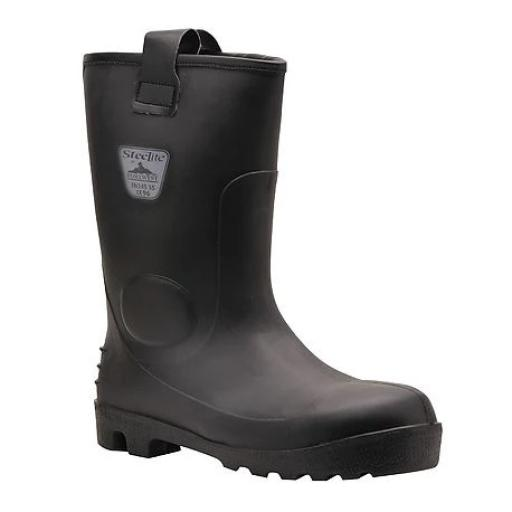safety_boots: (59, 40, 462, 483)
